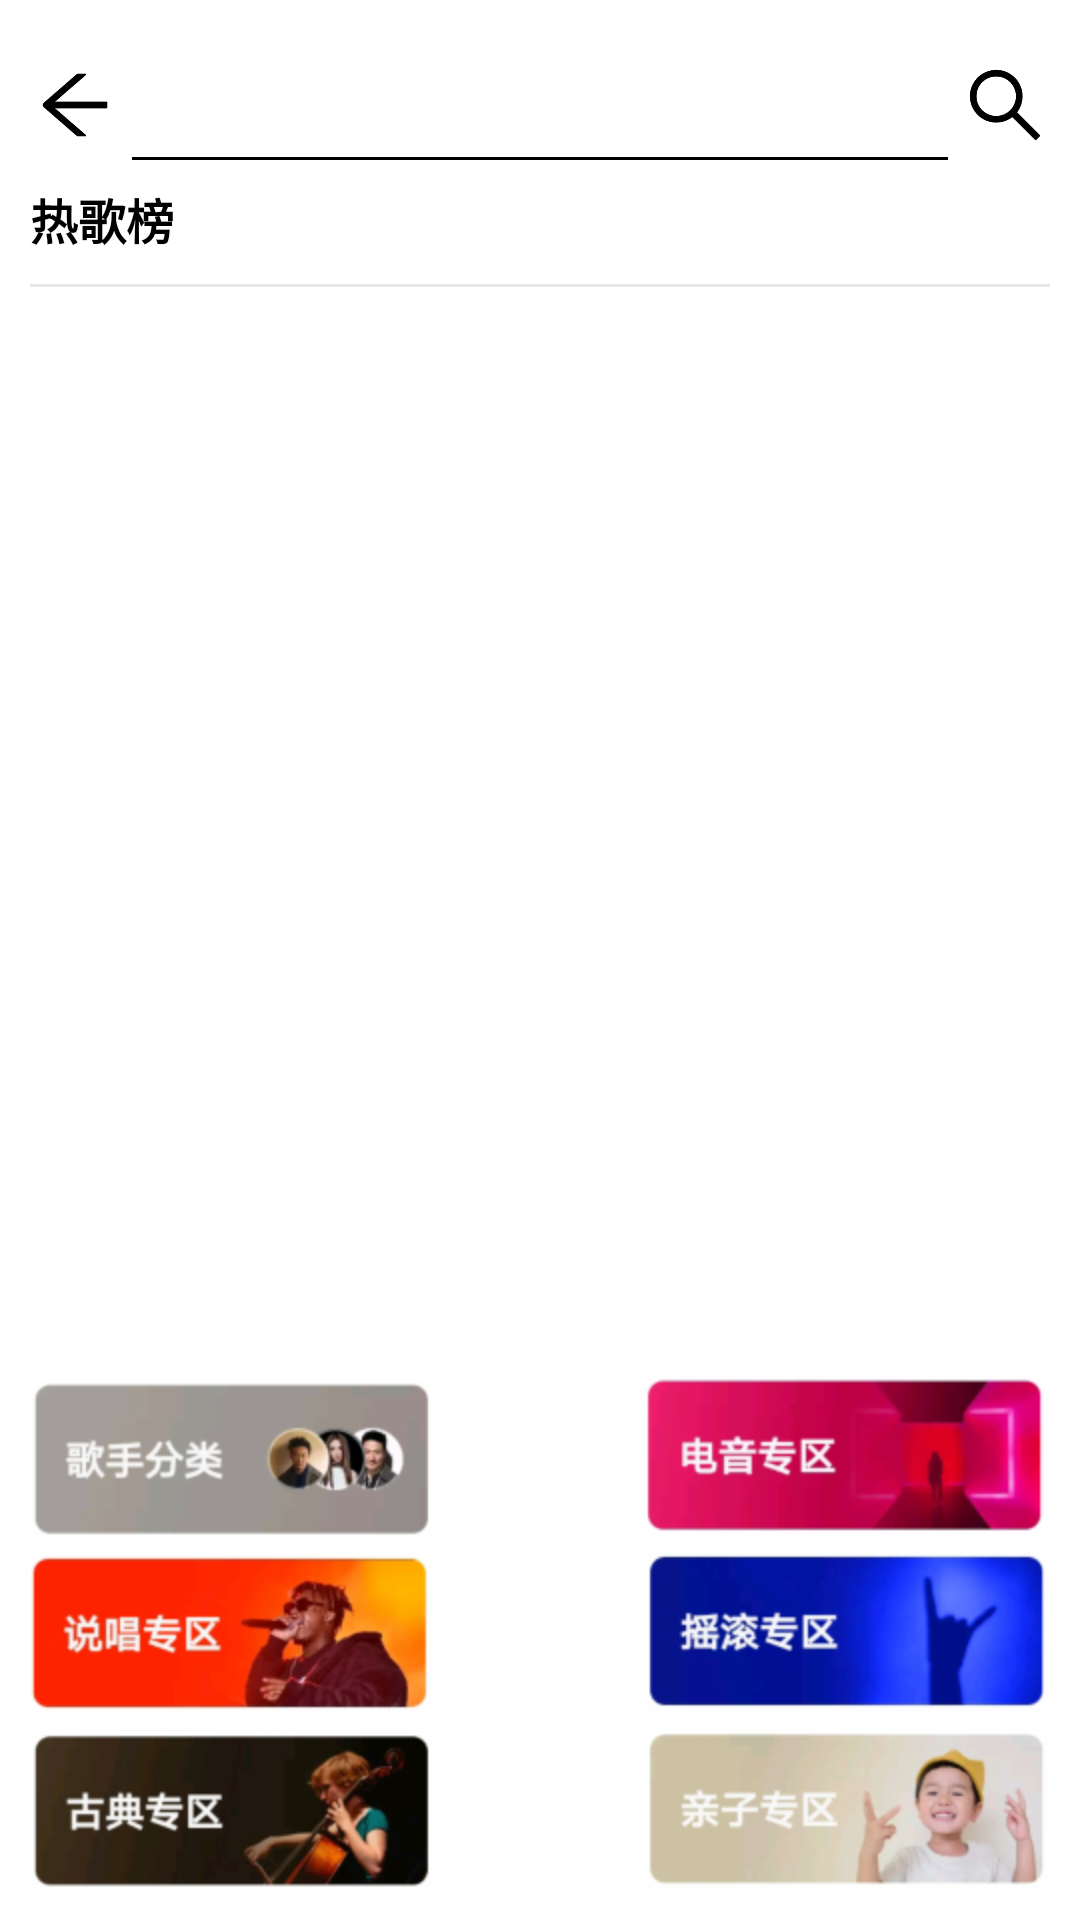

Named icons in this screenshot (1080w x 1920h) and their bounding boxes, bbox(x1, y1, x2, y2):
search: bbox(970, 69, 1040, 140)
userinfo back: bbox(42, 73, 108, 137)
